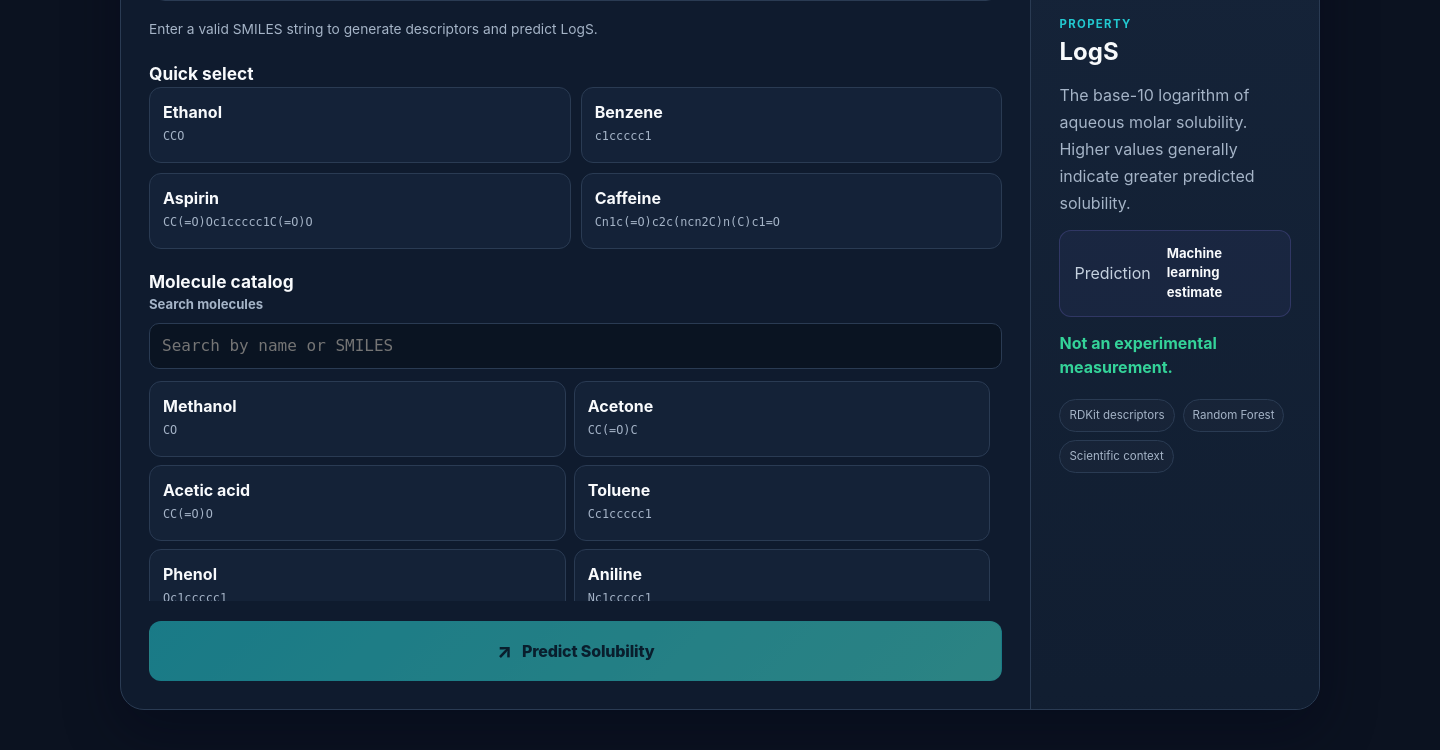
Test: Molecular Property Predictor › filters and selects a molecule from the searchable catalog
(page scrolled)
Type "acid" into the search field labelled "Search molecules" at (576, 346), box [149, 323, 1002, 369]
(page scrolled)
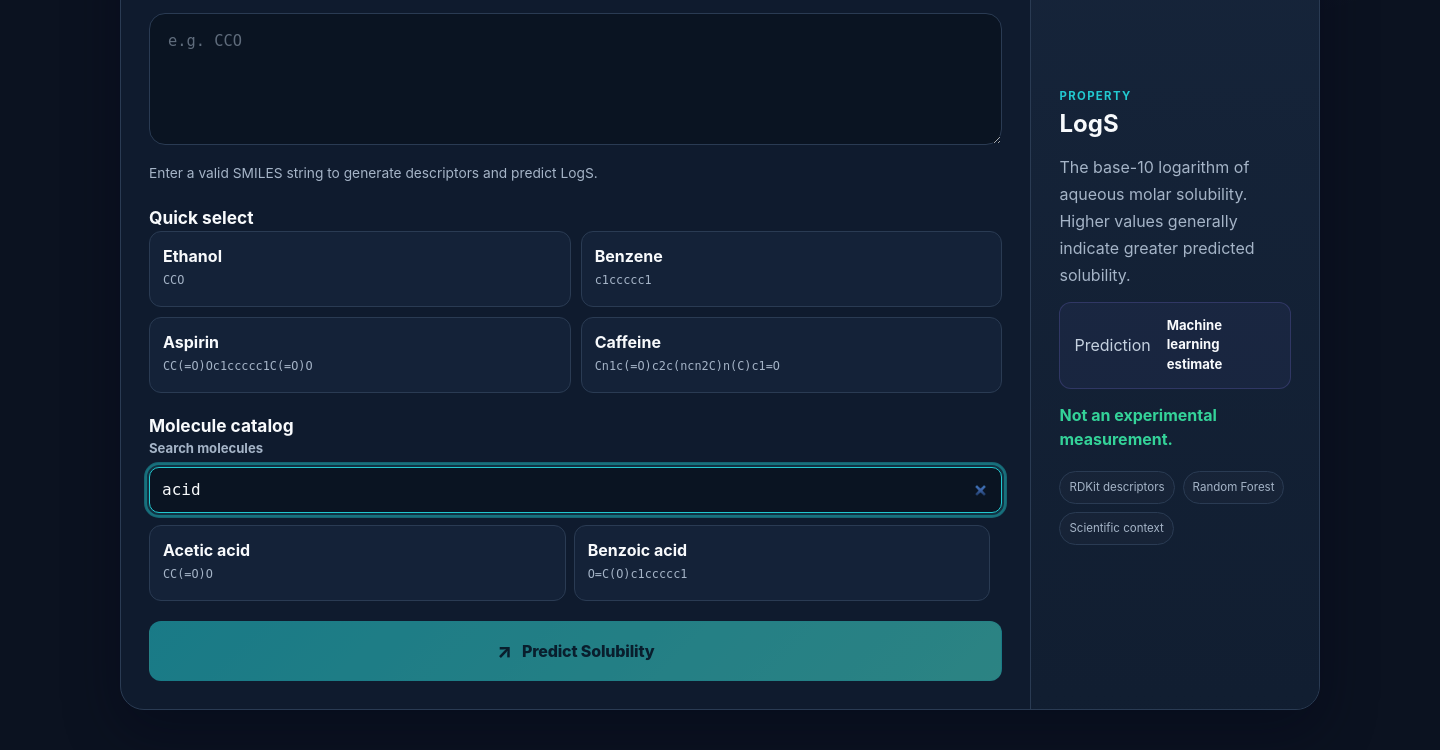
Click the button "Acetic acid CC(=O)O" at (207, 550), box [149, 525, 566, 601]
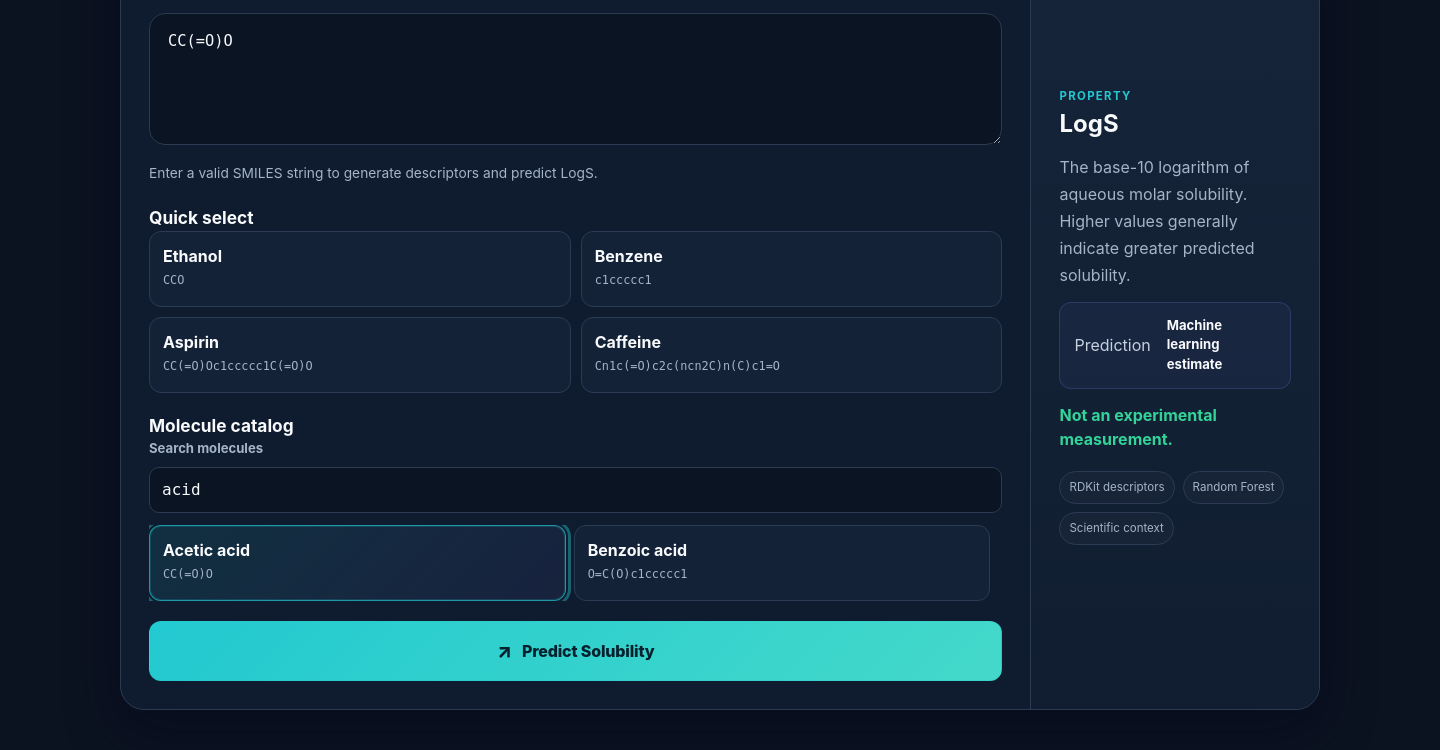
Now the text box named "SMILES" holds "CC(=O)O", box [149, 12, 1002, 144]
